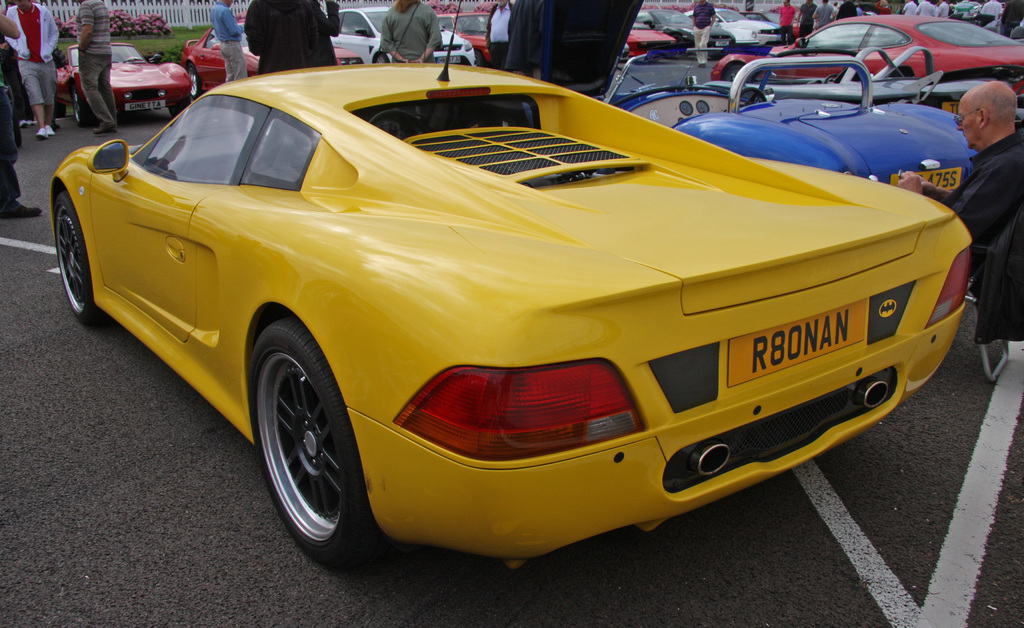Car: (56, 0, 1023, 572)
